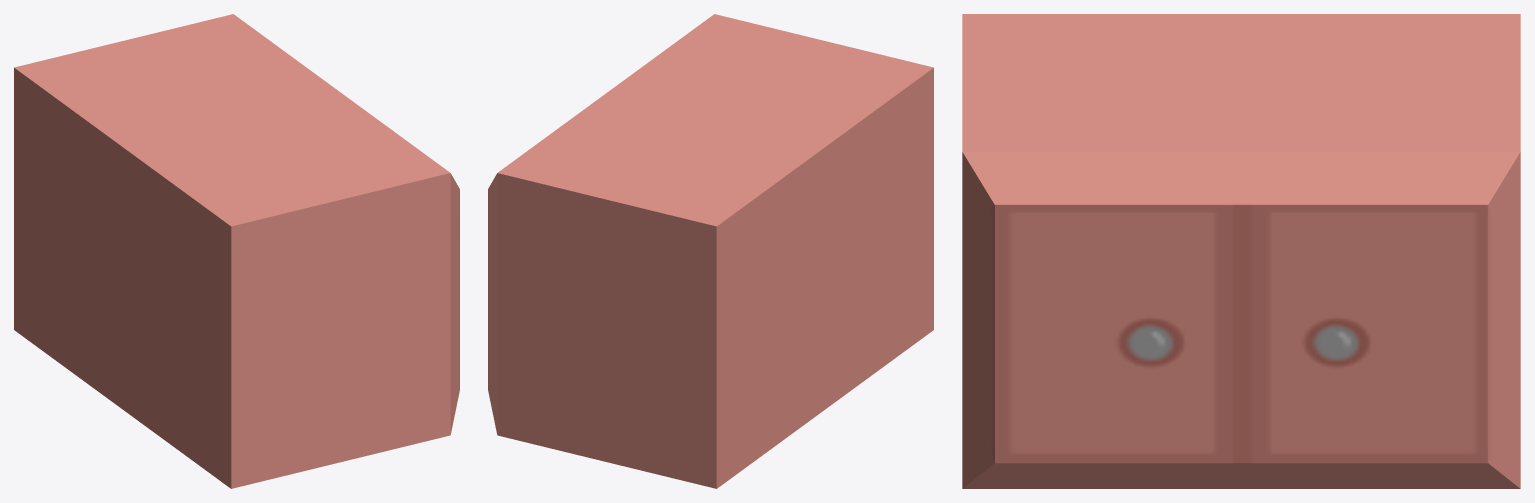
The model's file is Cabinet_Short_01.fbx.
The picture shows the model from 3 angles, left to right: view 1: azimuth 30°, elevation 25°; view 2: azimuth 150°, elevation 25°; view 3: azimuth 270°, elevation 25°; orthographic projection. The views are drawn at different scales.
Visible parts, largest first — view 1: Cabinet_Short_01; view 2: Cabinet_Short_01; view 3: Cabinet_Short_01.
Part boxes in pixels (left/top/right/bottom): Cabinet_Short_01: left=14, top=14, right=459, bottom=488; Cabinet_Short_01: left=488, top=14, right=933, bottom=488; Cabinet_Short_01: left=962, top=14, right=1520, bottom=488.
Bounding box in the file's own units: 1.93 × 2 × 3.
